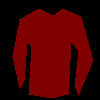abbigliamento_uomo: (12, 8, 93, 98)
